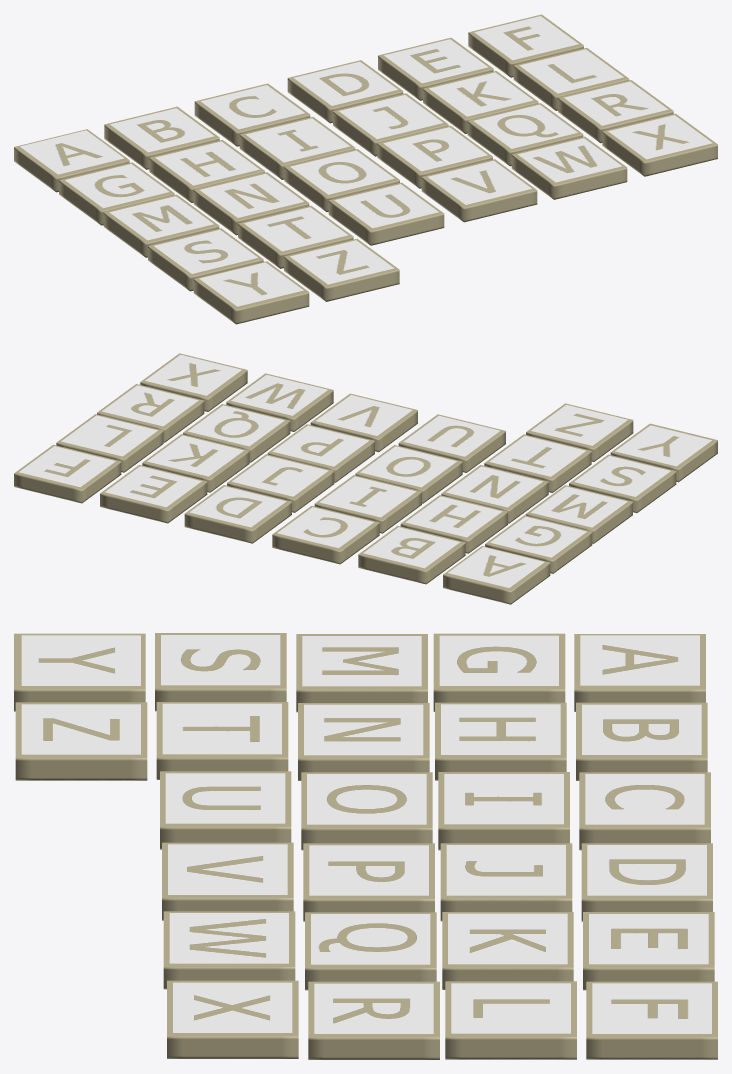
Rendered from Tiles.glb.
The picture shows the model from 3 angles, top to bottom: view 1: azimuth 30°, elevation 25°; view 2: azimuth 150°, elevation 25°; view 3: azimuth 270°, elevation 25°; orthographic projection. The views are drawn at different scales.
Parts seen in each view (by area): view 1: W, U, X, Z, V, Y, Plane.008, Plane.011, Plane.009, Plane.024, Plane.019, Plane.005 (+40 smaller); view 2: B, D, E, A, C, F, Plane.008, Plane.009, Plane.011, Plane.024, Plane.019, Plane.005 (+40 smaller); view 3: Plane.011, Plane.019, Plane.009, Plane.008, Plane.024, Plane.005, Plane.021, Plane.010, Plane.002, Plane.023, Plane.025, Plane.013 (+40 smaller).
Boxes of the visible parts, x1=… form: W: x1=511, y1=136, x2=627, y2=199; U: x1=328, y1=182, x2=444, y2=245; X: x1=602, y1=113, x2=717, y2=176; Z: x1=284, y1=238, x2=399, y2=301; V: x1=421, y1=159, x2=537, y2=222; Y: x1=193, y1=261, x2=309, y2=324; Plane.008: x1=245, y1=118, x2=349, y2=162; Plane.011: x1=519, y1=49, x2=623, y2=93; Plane.009: x1=339, y1=95, x2=442, y2=138; Plane.024: x1=199, y1=262, x2=303, y2=306; Plane.019: x1=244, y1=207, x2=348, y2=251; Plane.005: x1=474, y1=16, x2=578, y2=60; B: x1=358, y1=525, x2=465, y2=584; D: x1=184, y1=485, x2=291, y2=543; E: x1=100, y1=464, x2=207, y2=523; A: x1=443, y1=546, x2=550, y2=604; C: x1=272, y1=505, x2=379, y2=564; F: x1=14, y1=444, x2=121, y2=503; Plane.008: x1=319, y1=476, x2=416, y2=517; Plane.009: x1=232, y1=455, x2=328, y2=496; Plane.011: x1=61, y1=415, x2=157, y2=456; Plane.024: x1=615, y1=425, x2=711, y2=466; Plane.019: x1=489, y1=436, x2=586, y2=476; Plane.005: x1=19, y1=446, x2=115, y2=487; Plane.011: x1=451, y1=983, x2=570, y2=1033; Plane.019: x1=162, y1=703, x2=281, y2=754; Plane.009: x1=446, y1=845, x2=565, y2=895; Plane.008: x1=444, y1=774, x2=563, y2=824; Plane.024: x1=21, y1=635, x2=140, y2=685; Plane.005: x1=592, y1=983, x2=711, y2=1033; Plane.021: x1=168, y1=844, x2=287, y2=894; Plane.010: x1=448, y1=913, x2=567, y2=964; Plane.002: x1=585, y1=774, x2=704, y2=824; Plane.023: x1=173, y1=982, x2=292, y2=1032; Plane.025: x1=21, y1=704, x2=140, y2=754; Plane.013: x1=304, y1=704, x2=423, y2=755.
Size of the model in its own units: 14.53 by 0.4045 by 10.7.
Materials: 2 (1 with a texture image).
